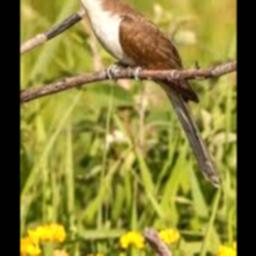Cuckoo: (54, 0, 222, 186)
